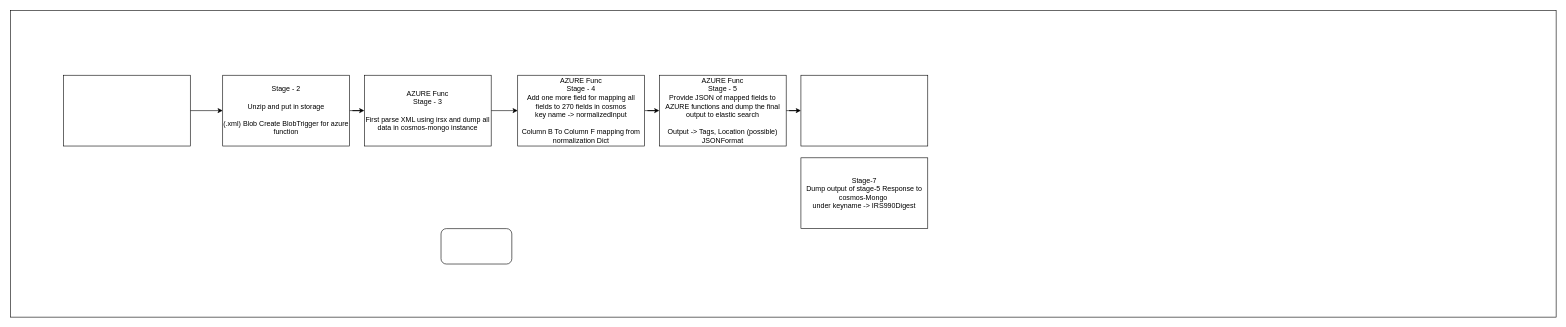
The diagram is 1566 pixels wide and 327 high, and some of its shapes have lost their labels. Each missing label, with the centre of its shape:
"Dead letter Queue Error handelling" goes at point (476, 246).
"Stage - 1 Download zip Files (not done) Inoput-> list of URL's" goes at point (126, 110).
"Stage-6 Dump output of stage-5 Response to elastic search" goes at point (864, 110).
